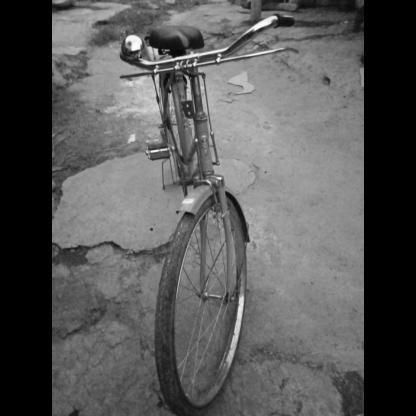Bicycle: (89, 0, 328, 415)
